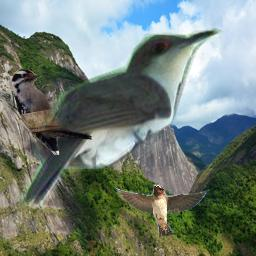Cuckoo: (19, 28, 223, 211)
Swallow: (113, 184, 209, 238)
Woodpecker: (11, 69, 92, 155)
